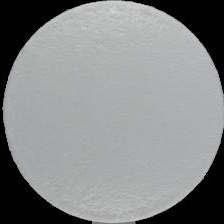49999-779: (0, 0, 224, 224)
